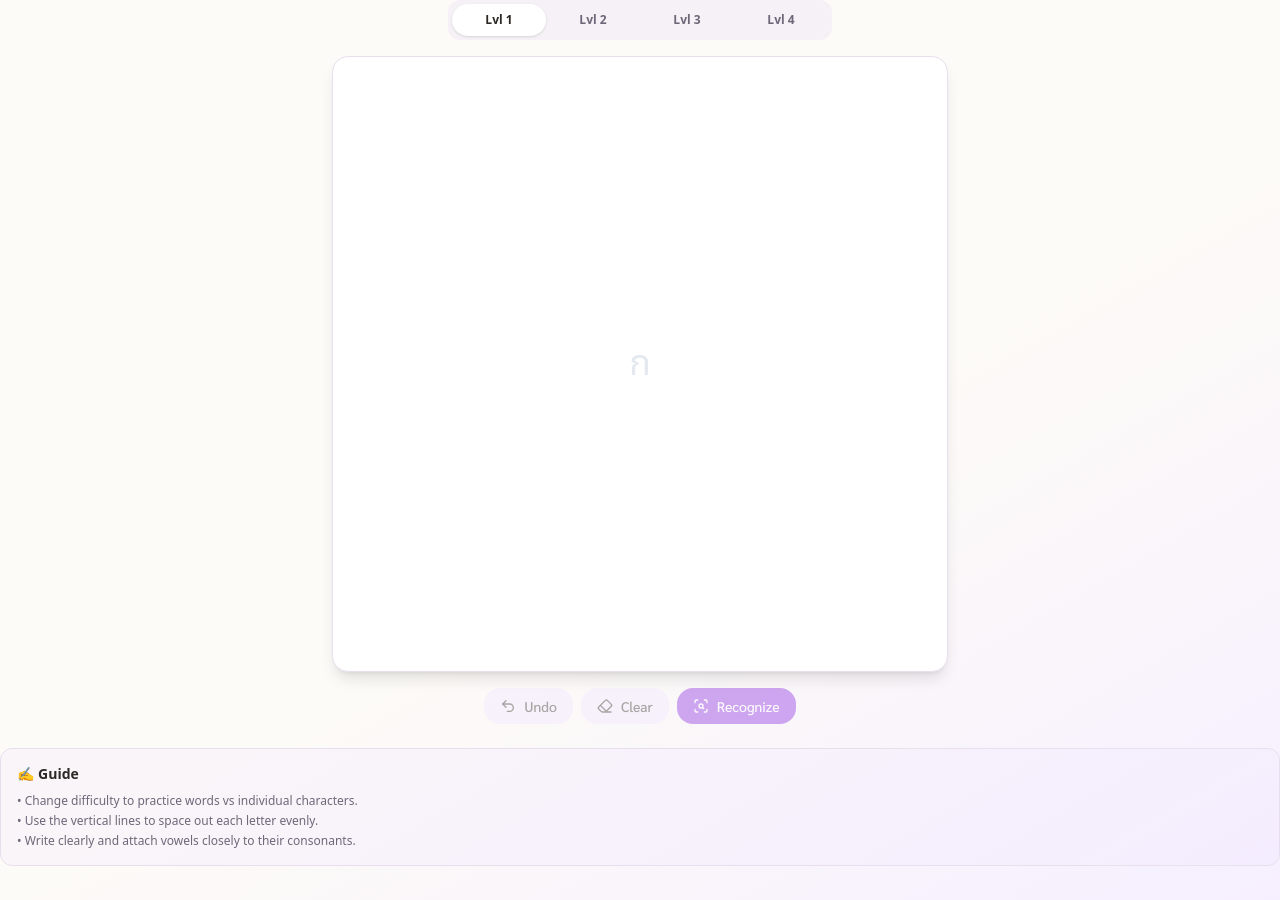
WritingPad responsive drawing › maps mouse input from CSS size to its fixed backing bitmap
Step 1. Press the mouse on the drawing → point(640, 364), box left=341, top=65, right=939, bottom=663
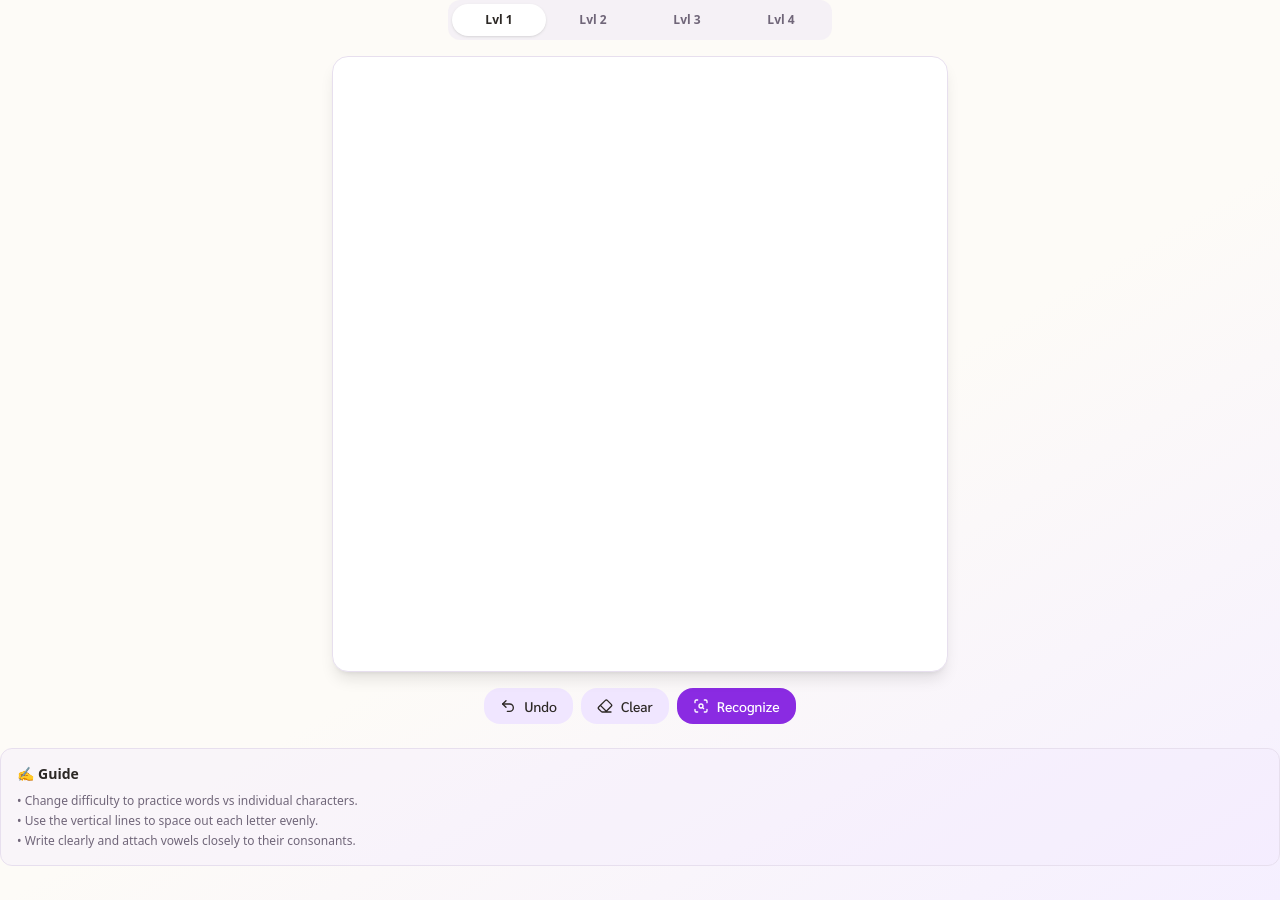
Expected: the button "Recognize" is enabled, left=677, top=688, right=796, bottom=724
